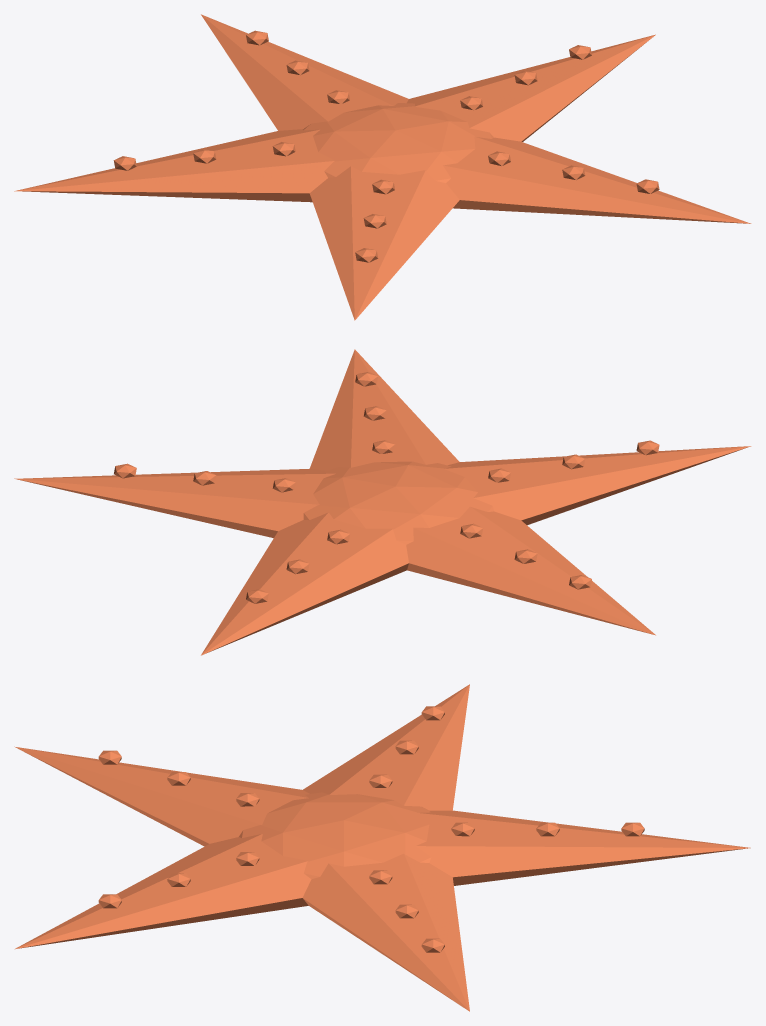
Rendered from sfish.glb.
3 renders of one model, top to bottom at view 1: azimuth 30°, elevation 25°; view 2: azimuth 150°, elevation 25°; view 3: azimuth 270°, elevation 25°, orthographic. The views are drawn at different scales.
Parts seen in each view (by area): view 1: StarfishArm_3, StarfishArm_1, StarfishArm_2, StarfishCenter, StarfishArm_4, StarfishArm_0; view 2: StarfishArm_1, StarfishArm_0, StarfishArm_4, StarfishArm_2, StarfishCenter, StarfishArm_3; view 3: StarfishArm_3, StarfishArm_4, StarfishArm_0, StarfishArm_2, StarfishCenter, StarfishArm_1.
Boxes of the visible parts, box(x1,y1,x2,y2) form: StarfishArm_3: box(443, 136, 751, 223); StarfishArm_1: box(14, 129, 334, 202); StarfishArm_2: box(309, 166, 459, 320); StarfishCenter: box(303, 103, 493, 182); StarfishArm_4: box(407, 34, 655, 141); StarfishArm_0: box(201, 14, 408, 130); StarfishArm_1: box(406, 506, 655, 635); StarfishArm_0: box(201, 512, 408, 655); StarfishArm_4: box(14, 468, 335, 538); StarfishArm_2: box(444, 446, 751, 525); StarfishCenter: box(303, 461, 493, 544); StarfishArm_3: box(309, 349, 459, 470); StarfishArm_3: box(14, 833, 311, 949); StarfishArm_4: box(302, 853, 469, 1011); StarfishArm_0: box(416, 810, 750, 885); StarfishArm_2: box(14, 746, 309, 846); StarfishCenter: box(239, 792, 431, 879); StarfishArm_1: box(303, 684, 469, 810).
Size of the model in its own units: 4.57 by 0.36 by 4.34.
